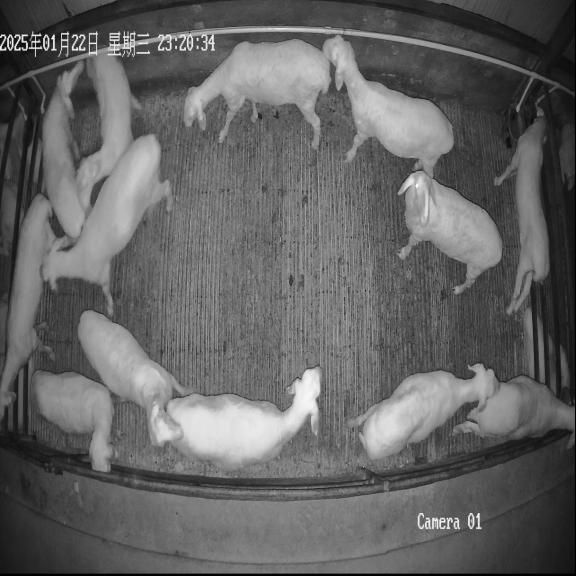drinking: (494, 105, 549, 315)
stand: (43, 134, 172, 316), (323, 36, 454, 176), (183, 39, 330, 149), (166, 367, 322, 470), (78, 310, 194, 445), (348, 363, 499, 459), (398, 170, 502, 295), (0, 194, 56, 419), (77, 54, 142, 205), (454, 375, 574, 448), (31, 370, 115, 472), (42, 62, 87, 237)
